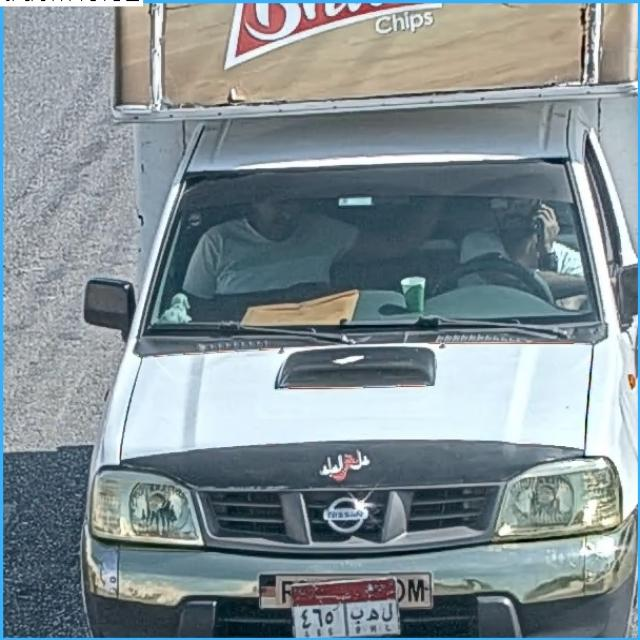windshield: (145, 159, 588, 332)
